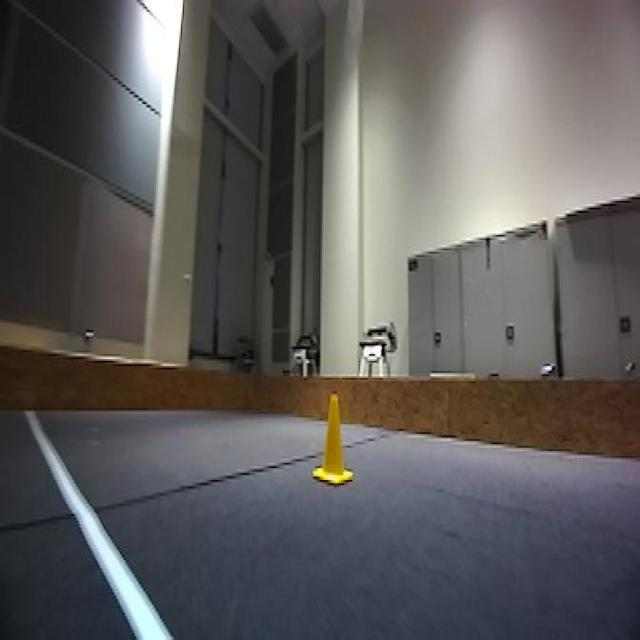frc_cone: (313, 396, 357, 494)
